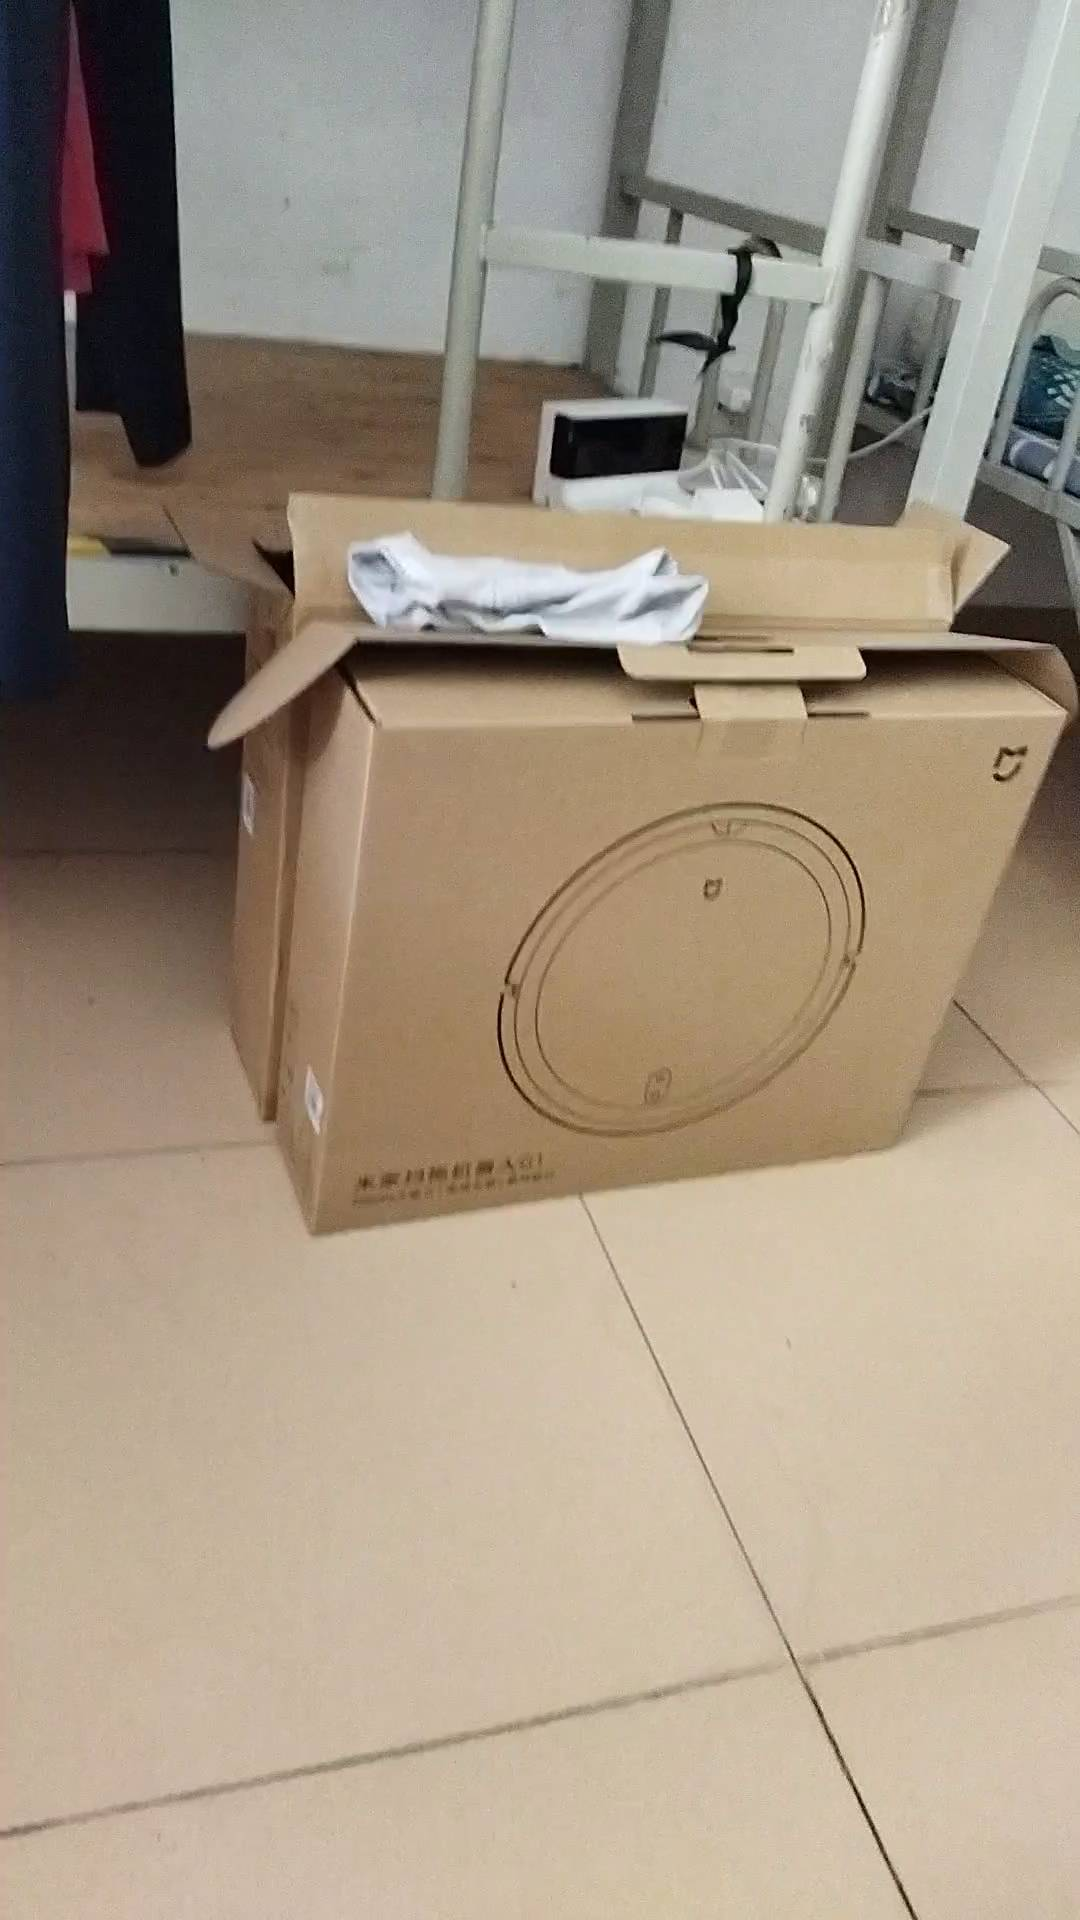recharge seat: (530, 396, 700, 513)
